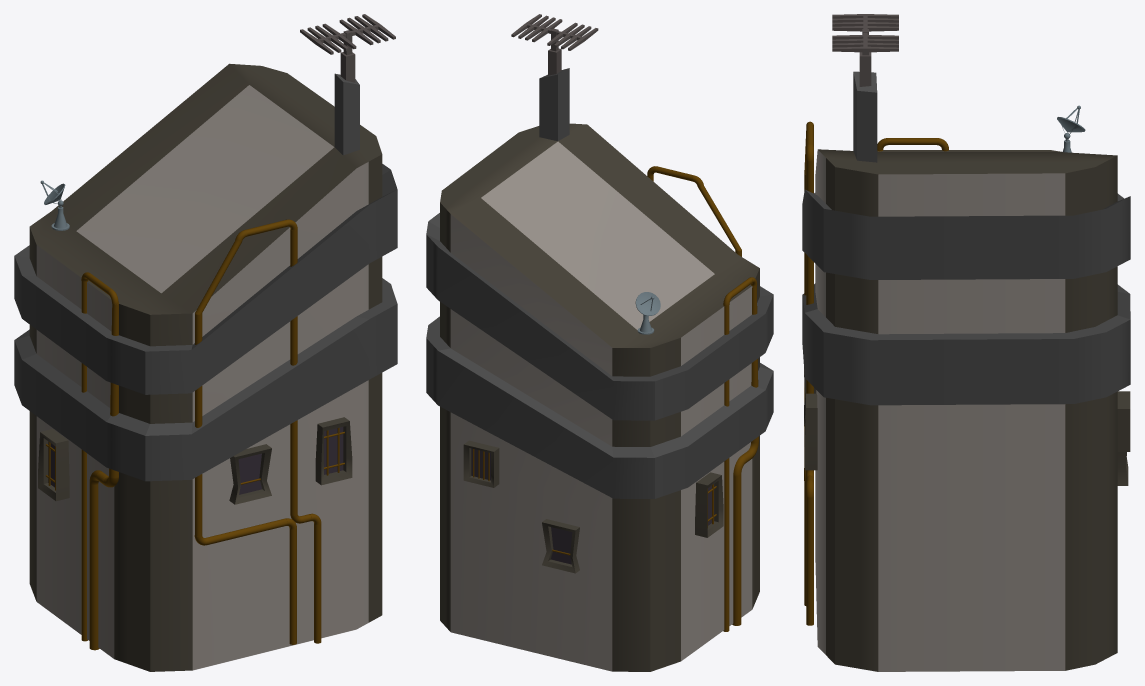
Rendered from 48_building6.fbx.
3 renders of one model, left to right at view 1: azimuth 30°, elevation 25°; view 2: azimuth 150°, elevation 25°; view 3: azimuth 270°, elevation 25°, orthographic. The views are drawn at different scales.
Parts seen in each view (by area): view 1: Buildings:pCube30, pCylinder324, pCylinder320, pCylinder300, pCube105, pCube111, pCube112, pCube114, pCylinder313, pCylinder325, pCylinder290; view 2: Buildings:pCube30, pCylinder300, pCube105, pCube115, pCube114, pCube113, pCylinder313, pCylinder325, pCylinder290; view 3: Buildings:pCube30, pCube105, pCylinder320, pCube111, pCube113, pCylinder324, pCylinder317, pCylinder290.
Part boxes in pixels (left/top/right/bottom): Buildings:pCube30: left=14, top=63, right=397, bottom=671; pCylinder324: left=194, top=313, right=296, bottom=644; pCylinder320: left=290, top=229, right=321, bottom=643; pCylinder300: left=89, top=302, right=118, bottom=650; pCube105: left=300, top=14, right=395, bottom=82; pCube111: left=315, top=417, right=352, bottom=485; pCube112: left=229, top=444, right=271, bottom=504; pCube114: left=38, top=429, right=69, bottom=501; pCylinder313: left=81, top=281, right=87, bottom=641; pCylinder325: left=195, top=219, right=297, bottom=314; pCylinder290: left=40, top=180, right=69, bottom=230; Buildings:pCube30: left=426, top=68, right=773, bottom=671; pCylinder300: left=732, top=284, right=758, bottom=625; pCube105: left=511, top=14, right=598, bottom=75; pCube115: left=542, top=519, right=579, bottom=573; pCube114: left=695, top=472, right=723, bottom=537; pCube113: left=463, top=440, right=499, bottom=487; pCylinder313: left=723, top=305, right=729, bottom=631; pCylinder325: left=647, top=166, right=741, bottom=251; pCylinder290: left=635, top=292, right=660, bottom=334; Buildings:pCube30: left=802, top=71, right=1130, bottom=671; pCube105: left=832, top=14, right=898, bottom=86; pCylinder320: left=806, top=160, right=813, bottom=625; pCube111: left=804, top=393, right=817, bottom=470; pCube113: left=1117, top=391, right=1130, bottom=451; pCylinder324: left=804, top=174, right=806, bottom=605; pCylinder317: left=877, top=138, right=948, bottom=150; pCylinder290: left=1057, top=105, right=1085, bottom=152.
Size of the model in its own units: 6.27 by 12.22 by 5.81.
